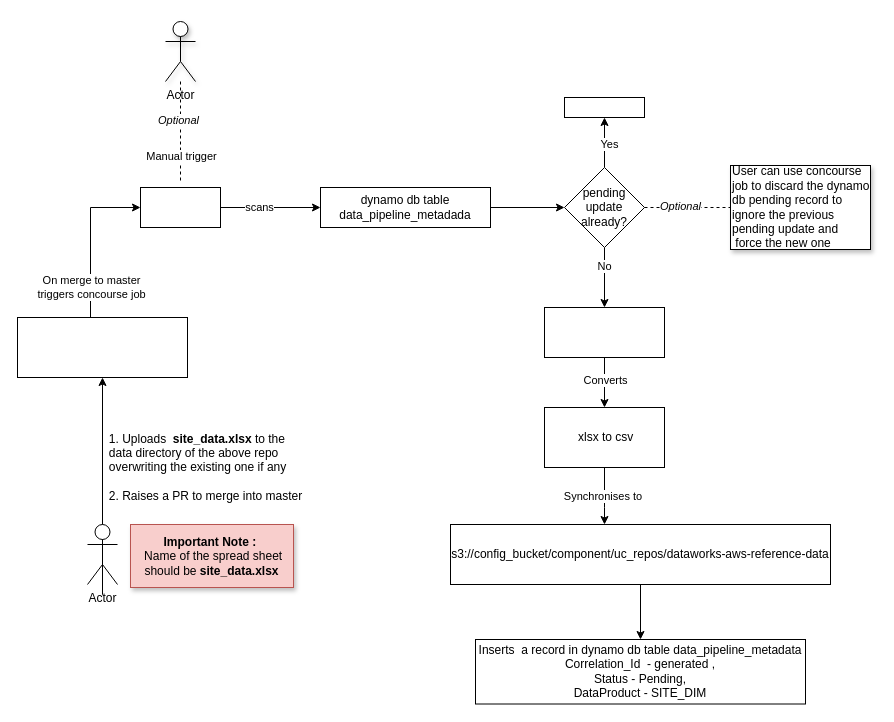
Some shapes in this 894 by 722 pixel diagram are drawn without their labels. The shapes that lost their labels are listed below. From the top down, each one's centre as x and y in pixels, then its label:
At [604,107]: "Exit".
At [180,207]: "Concourse".
At [102,347]: "[Git Enterprise] dataworks-aws-reference-data".
At [604,332]: "Generates correlation_id".
